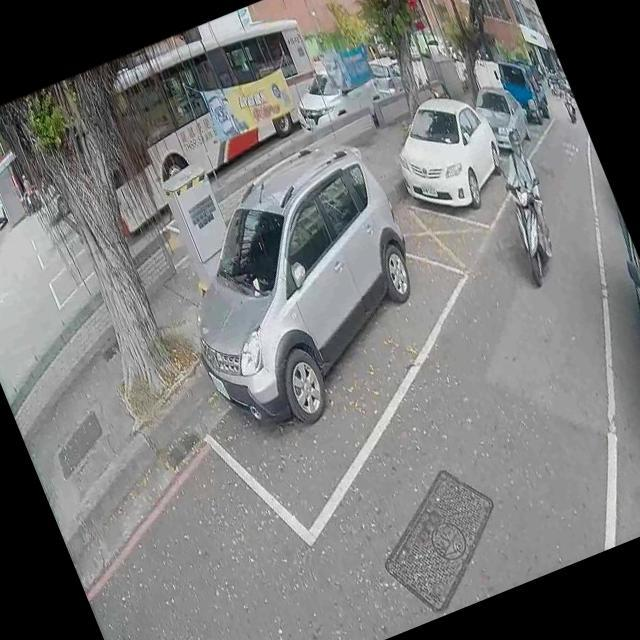person: (478, 120, 568, 267), (14, 167, 41, 214), (554, 78, 572, 105)
